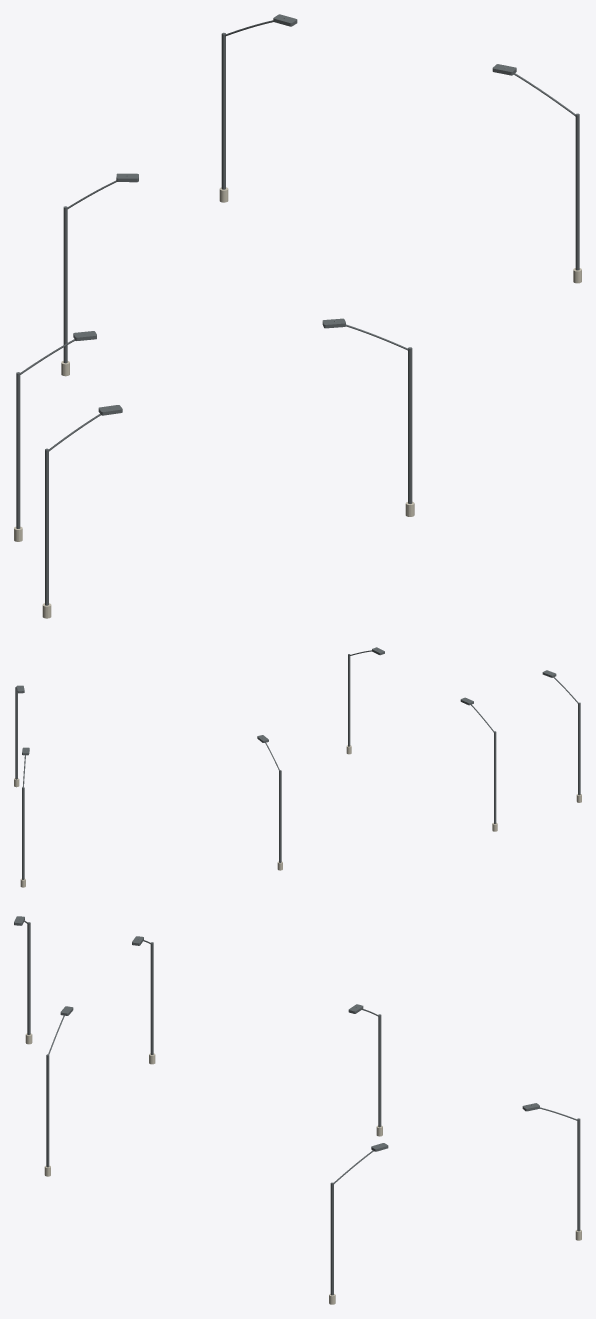
3 renders of one model, top to bottom at view 1: azimuth 30°, elevation 25°; view 2: azimuth 150°, elevation 25°; view 3: azimuth 270°, elevation 25°, orthographic. The views are drawn at different scales.
Visible parts, largest first — view 1: buildings_s_-2_-6_Dark_Metal, buildings_s_-2_-6_Warm_Limestone; view 2: buildings_s_-2_-6_Dark_Metal; view 3: buildings_s_-2_-6_Dark_Metal.
Boxes of the visible parts, x1=… form: buildings_s_-2_-6_Dark_Metal: x1=16, y1=14, x2=579, y2=605; buildings_s_-2_-6_Warm_Limestone: x1=14, y1=187, x2=581, y2=618; buildings_s_-2_-6_Dark_Metal: x1=15, y1=647, x2=580, y2=879; buildings_s_-2_-6_Dark_Metal: x1=14, y1=916, x2=580, y2=1295.
Bounding box in the file's own units: 65.67 × 16.75 × 59.92.
